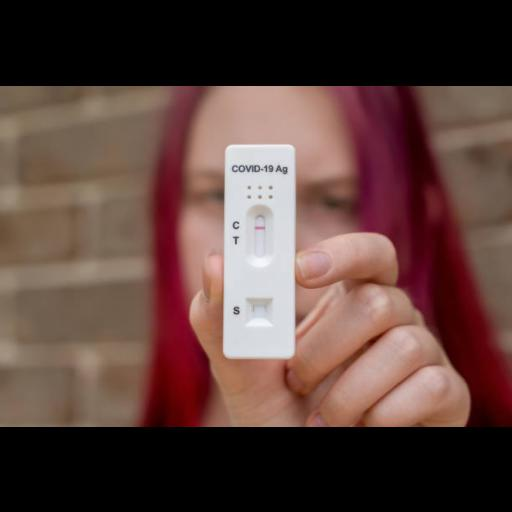Neg: (226, 144, 294, 358)
